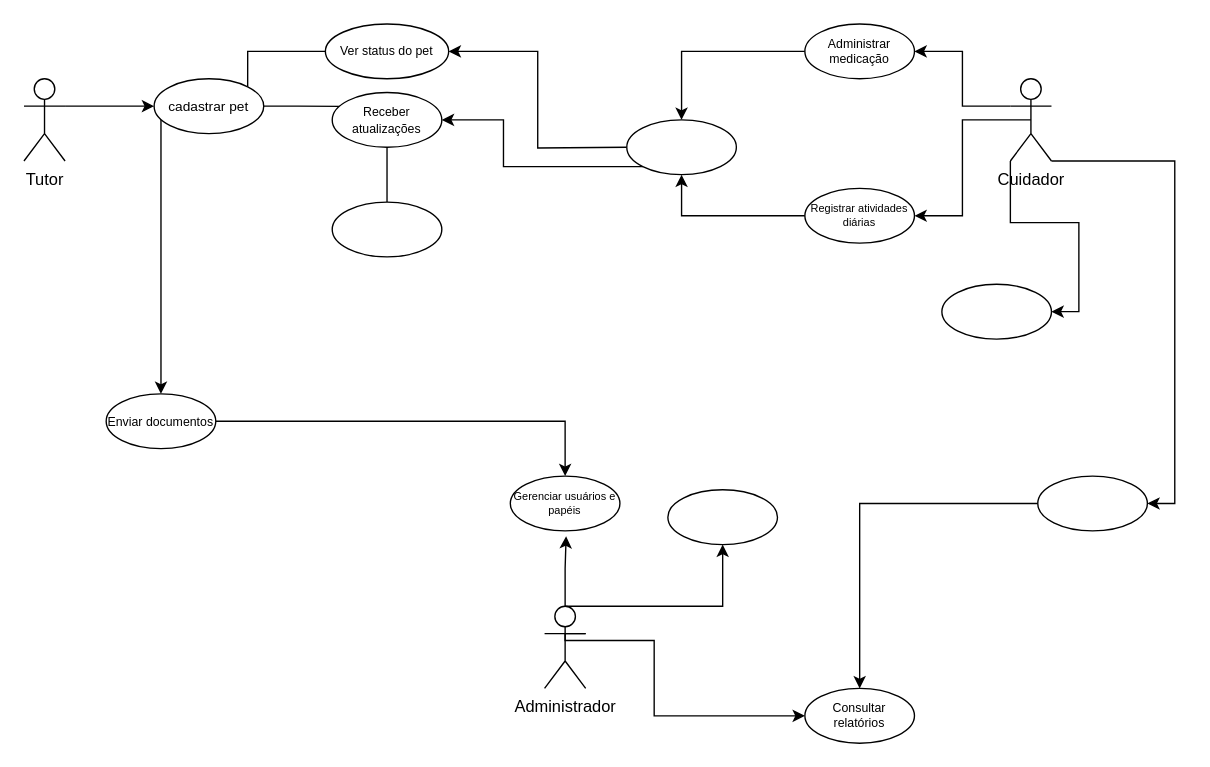
Some shapes in this 1210 by 767 pixel diagram are drawn without their labels. Each missing label, with the box of its shape:
Configurar regras: (667, 488, 777, 545)
Consultar agenda: (941, 283, 1051, 339)
Enviar alertas de saúde: (625, 119, 736, 175)
Enviar atualizações: (1036, 475, 1147, 531)
Visualizar histórico: (331, 201, 442, 257)
